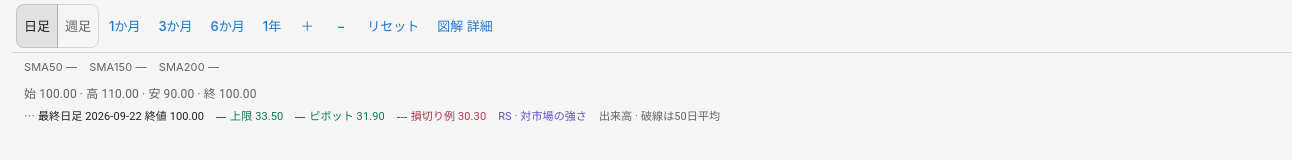
Test: always-visible research price legend › shows exact levels and final selected-data date/close across daily, weekly and historical pan
Check: the element named "価格・RS・出来高の凡例" shows "上限 33.50", box [24,110,720,123]
Check: the element named "価格・RS・出来高の凡例" shows "ピボット 31.90", box [24,110,720,123]
Click the button "週足": (78, 26) [57,4,99,48]
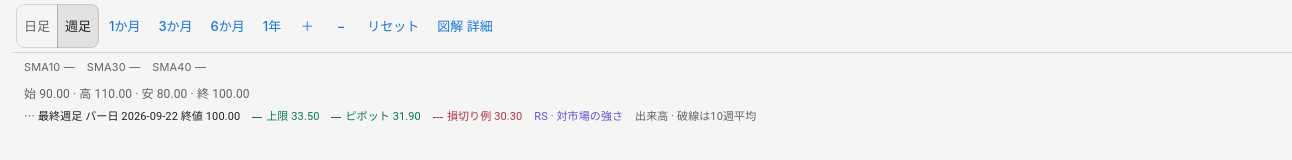
Check: the element with test id "chart-final-bar-legend" shows "最終週足 バー日 2026-09-22 終値 100.00", box [24,109,240,126]
